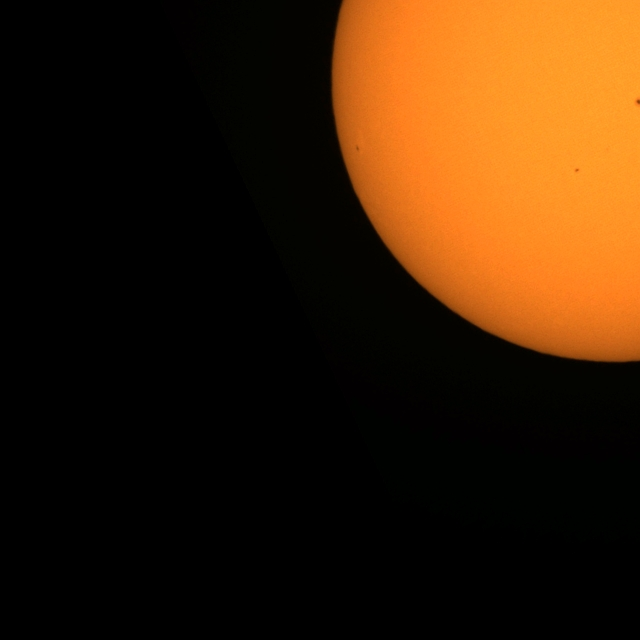sunspot: (634, 97, 640, 107), (354, 144, 360, 153), (574, 167, 580, 173)
